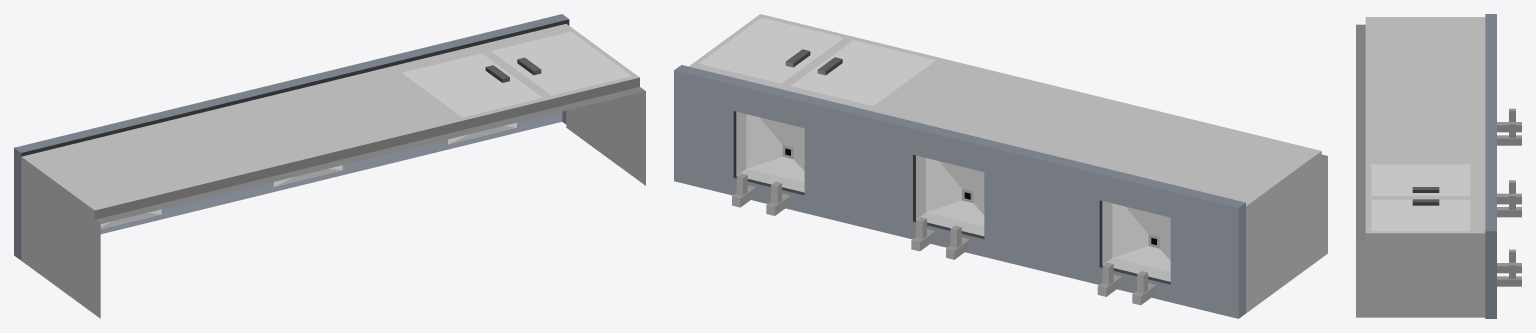
Rendered from Sinks.glb.
3 views of the same model, side by side, from view 1: azimuth 30°, elevation 25°; view 2: azimuth 150°, elevation 25°; view 3: azimuth 270°, elevation 25° (orthographic). The views are drawn at different scales.
Parts seen in each view (by area): view 1: SO_Sinks; view 2: SO_Sinks; view 3: SO_Sinks.
Part boxes in pixels (bbox=[...]): SO_Sinks: bbox=[14, 14, 645, 318]; SO_Sinks: bbox=[674, 14, 1327, 318]; SO_Sinks: bbox=[1356, 14, 1521, 318].
Bounding box in the file's own units: 4.95 × 0.9319 × 1.6.
Materials: 1 (1 with a texture image).
